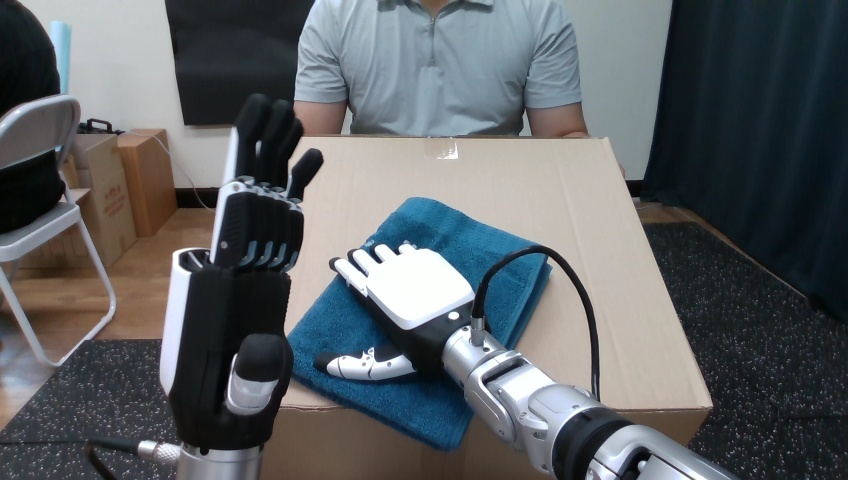left robot hand: (316, 243, 734, 479), (86, 94, 322, 479), (483, 252, 593, 394)
